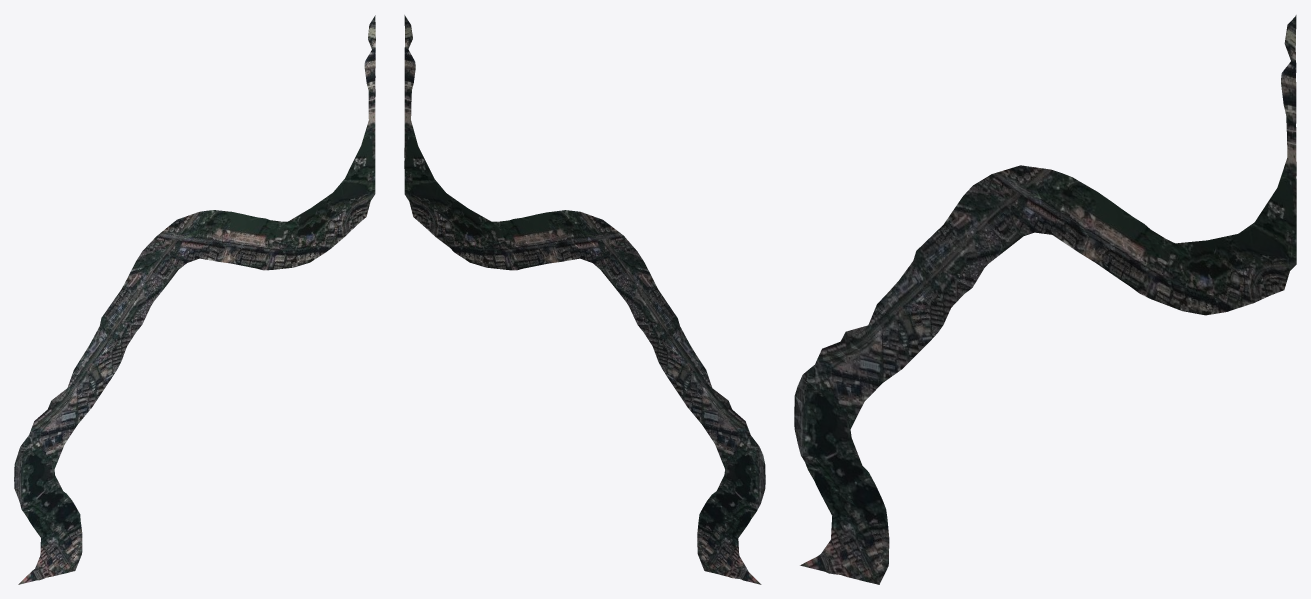
The picture shows the model from 3 angles, left to right: view 1: azimuth 30°, elevation 25°; view 2: azimuth 150°, elevation 25°; view 3: azimuth 330°, elevation 25°; orthographic projection. The views are drawn at different scales.
Visible parts, largest first — view 1: 0_0_3; view 2: 0_0_3; view 3: 0_0_3.
Boxes of the visible parts, left/top/right/bottom form: 0_0_3: left=14, top=15, right=375, bottom=584; 0_0_3: left=404, top=15, right=765, bottom=584; 0_0_3: left=794, top=15, right=1296, bottom=584.
Bounding box in the file's own units: 2695 × 3450 × 23.4.
1 material, 1 textured.
